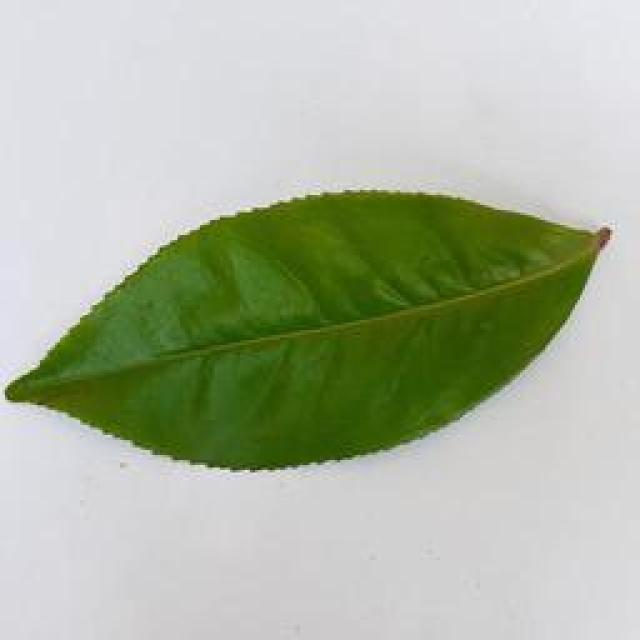Healthy: (4, 178, 638, 479)
